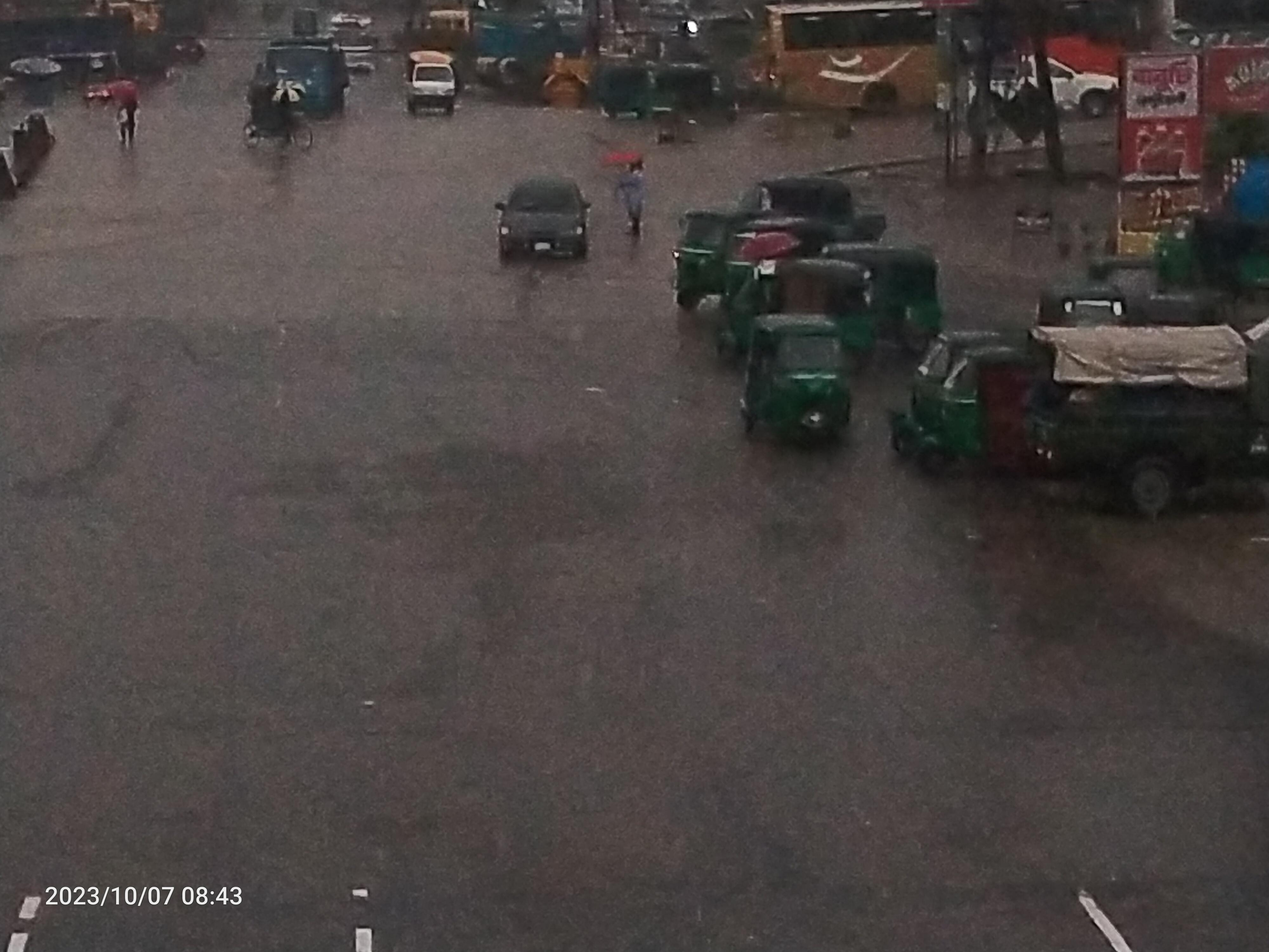Bus: (748, 0, 977, 139)
Car: (922, 41, 1157, 128), (456, 154, 613, 281), (234, 74, 328, 169), (388, 43, 474, 131)
Truck: (1020, 290, 1269, 541)
